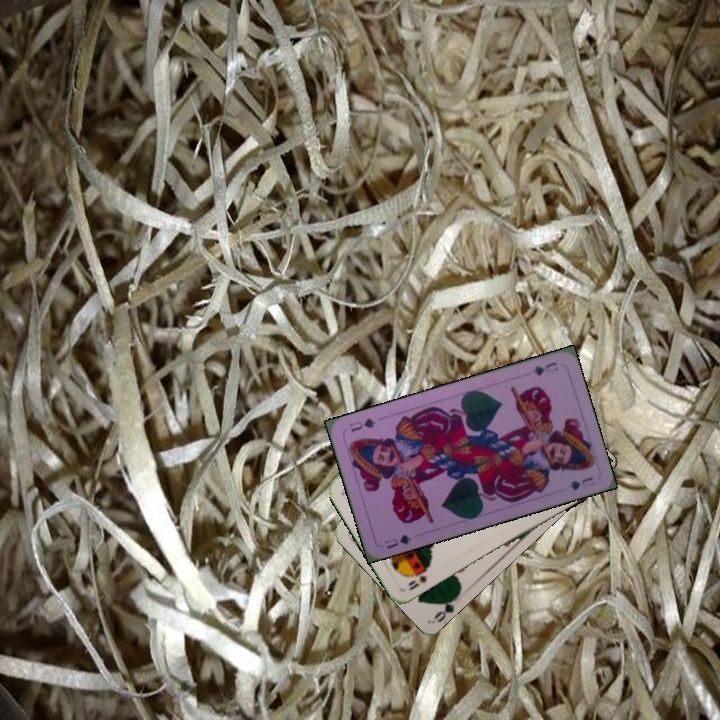GO: (430, 590, 462, 624)
GU: (381, 530, 414, 552), (528, 358, 561, 378)
SO: (404, 566, 431, 593)
